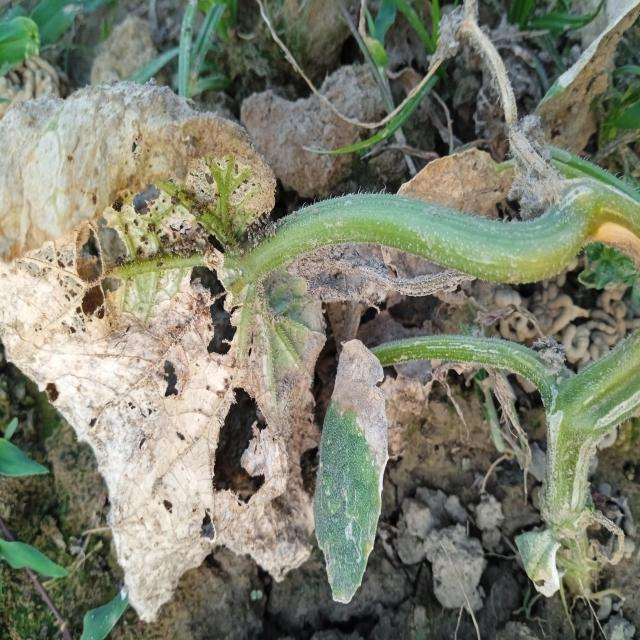cucumber_bacterial: (0, 76, 312, 624), (401, 18, 569, 216), (314, 339, 401, 608), (504, 486, 622, 614)
